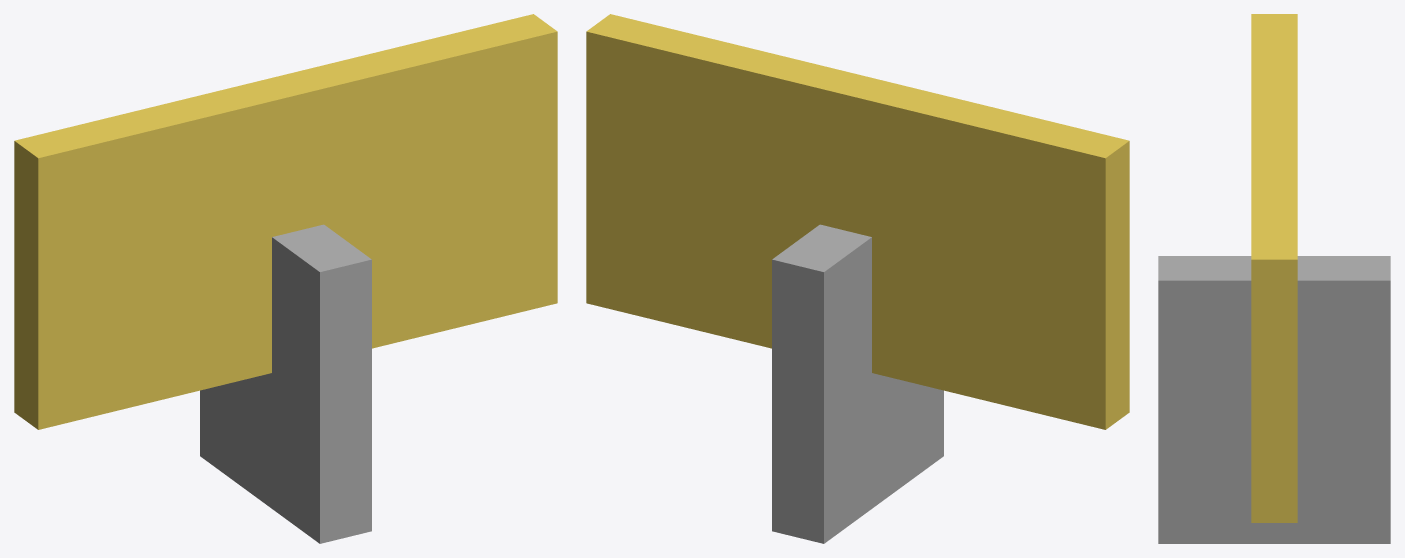
File: detour_barricade.glb
The picture shows the model from 3 angles, left to right: view 1: azimuth 30°, elevation 25°; view 2: azimuth 150°, elevation 25°; view 3: azimuth 270°, elevation 25°; orthographic projection. The views are drawn at different scales.
Visible parts, largest first — view 1: board, stand; view 2: board, stand; view 3: stand, board.
Part boxes in pixels (x1=…): board: x1=14, y1=14, x2=557, y2=429; stand: x1=200, y1=224, x2=371, y2=543; board: x1=586, y1=14, x2=1129, y2=429; stand: x1=772, y1=224, x2=943, y2=543; stand: x1=1158, y1=256, x2=1390, y2=543; board: x1=1251, y1=14, x2=1297, y2=522.
Bounding box in the file's own units: 2 × 1.5 × 0.7998.
